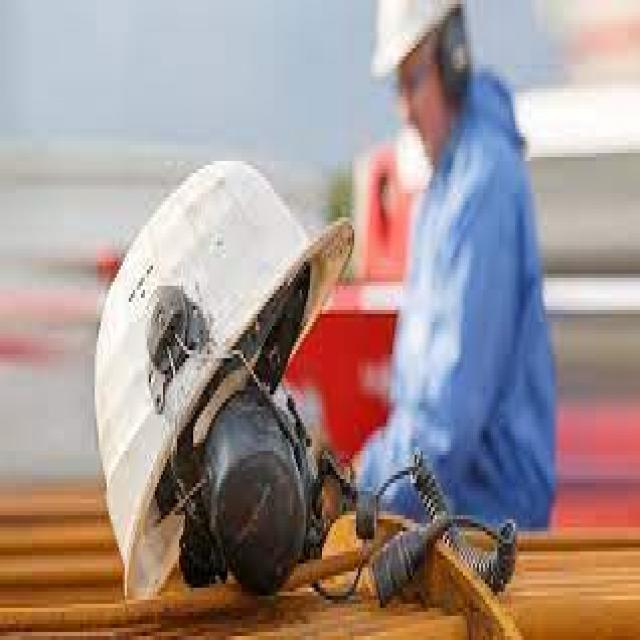safety_helmet: (80, 129, 342, 616), (360, 0, 480, 100)
